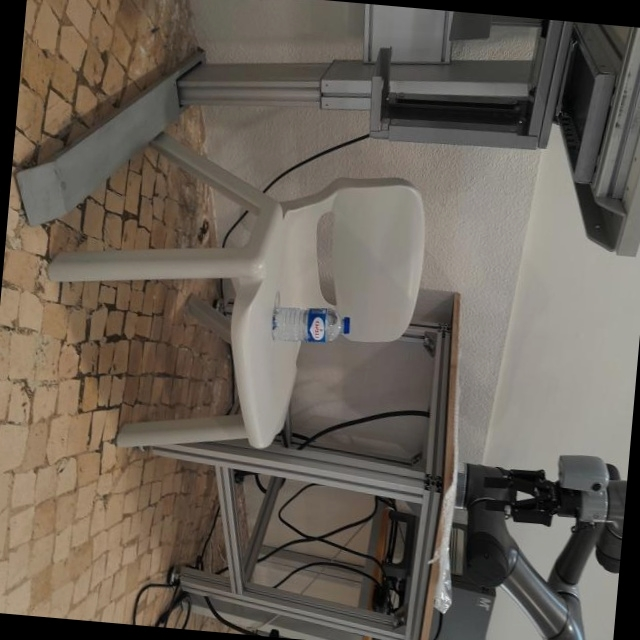Plastic-bottle: (266, 299, 354, 347)
